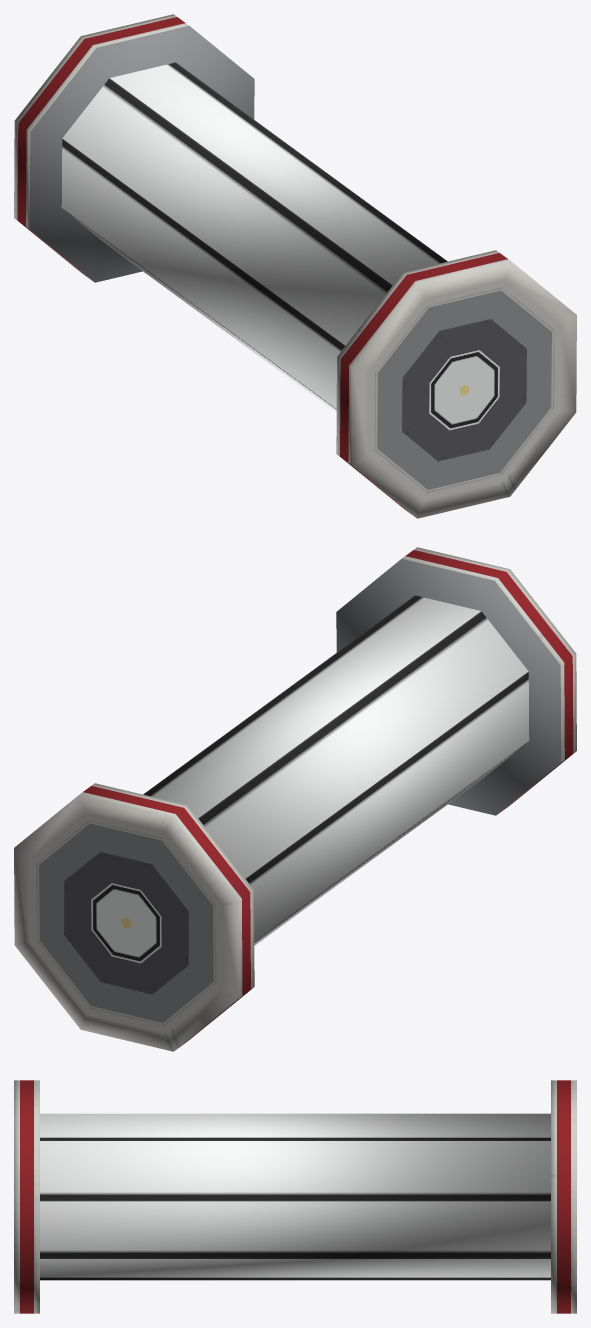
The model's file is G_Env_Arch_WallProp_00_Pipe.fbx.
The picture shows the model from 3 angles, top to bottom: view 1: azimuth 30°, elevation 25°; view 2: azimuth 150°, elevation 25°; view 3: azimuth 270°, elevation 25°; orthographic projection. The views are drawn at different scales.
Visible parts, largest first — view 1: G_Env_Arch_WallProp_00_Pipe; view 2: G_Env_Arch_WallProp_00_Pipe; view 3: G_Env_Arch_WallProp_00_Pipe.
Boxes of the visible parts, x1,y1,x2,y2 form: G_Env_Arch_WallProp_00_Pipe: [14, 14, 576, 518]; G_Env_Arch_WallProp_00_Pipe: [14, 547, 576, 1051]; G_Env_Arch_WallProp_00_Pipe: [14, 1080, 576, 1313].
Bounding box in the file's own units: 192 × 192 × 501.
